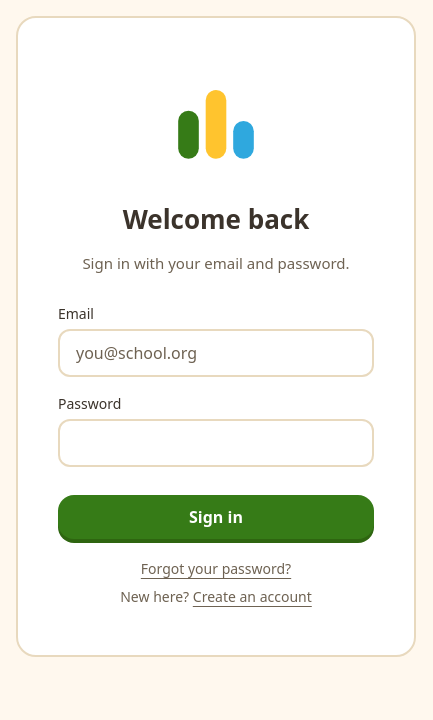
EmailSignInPage › shows a generic message when signIn returns nothing usable
Expected: the button "Sign in" is shown, x1=58 y1=495 x2=374 y2=539
Type "t@e.com" into the field labelled "Email".
click(216, 353); type("t@e.com")  # box x1=58 y1=329 x2=374 y2=377
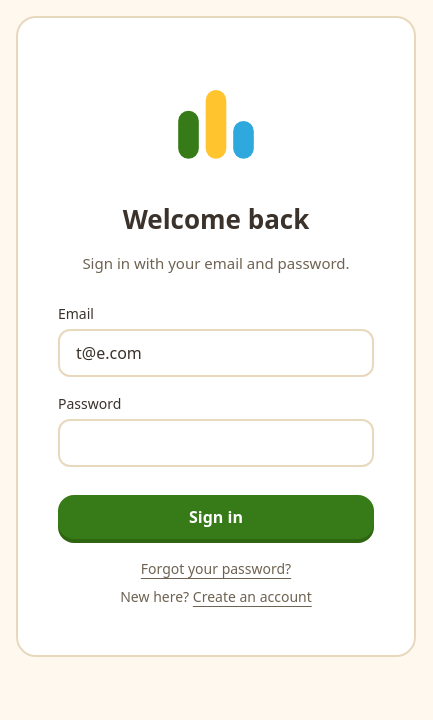
Type "s3cret" into the password field labelled "Password".
click(216, 443); type("s3cret")  # box x1=58 y1=419 x2=374 y2=467
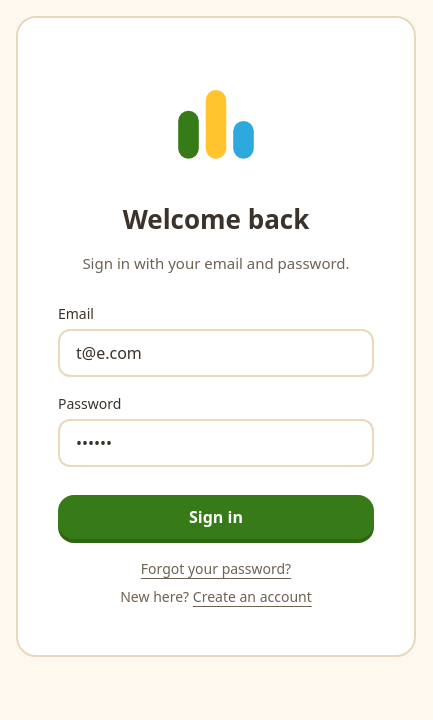
Click the button "Sign in".
click(216, 517)  # box x1=58 y1=495 x2=374 y2=539
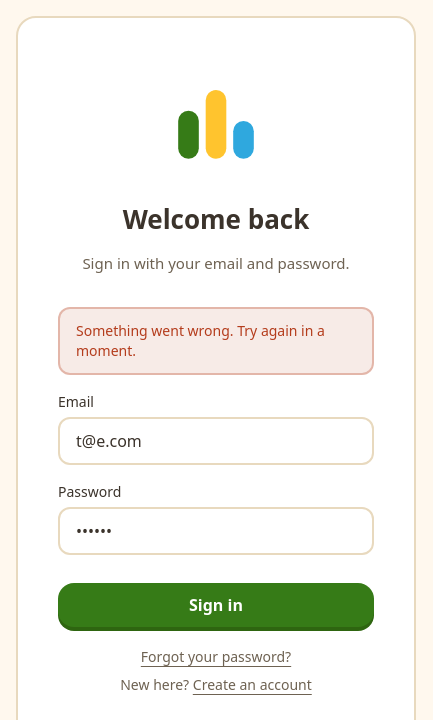
Expected: the message shows "Something went wrong.", x1=76 y1=321 x2=325 y2=360
